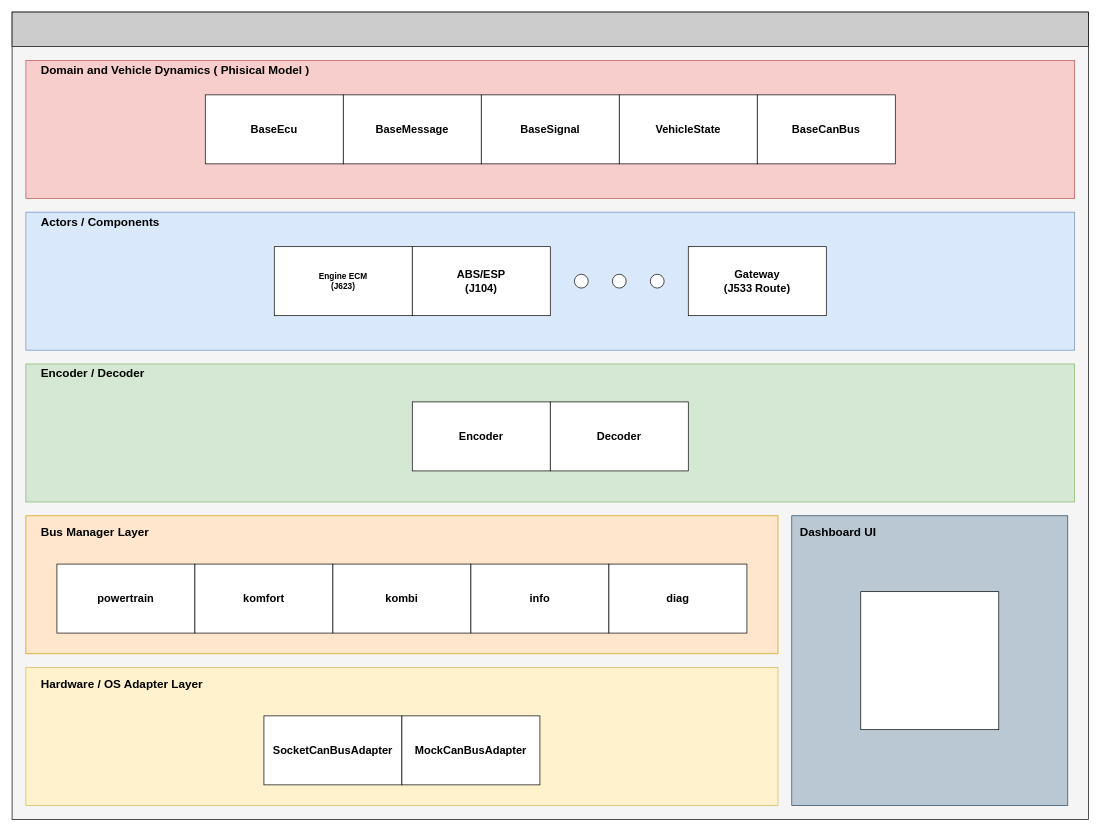
Image size: 1101x831. Some labels were removed from this diagram. The box of each missing label's shape, as (x1, y1, x2, y2) in pixels:
Car Simulator Architecture: (11, 11, 1088, 47)
UI: (860, 591, 999, 730)
